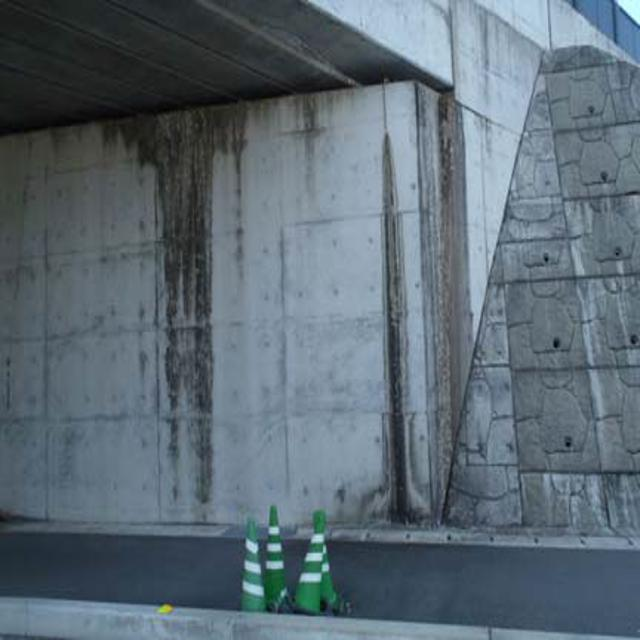leakage: (124, 91, 246, 493), (379, 63, 480, 524)
